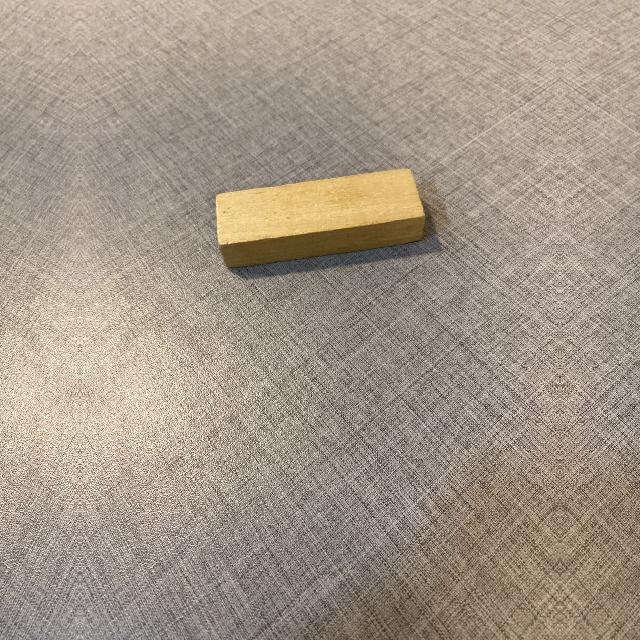jenga: (217, 169, 424, 272)
